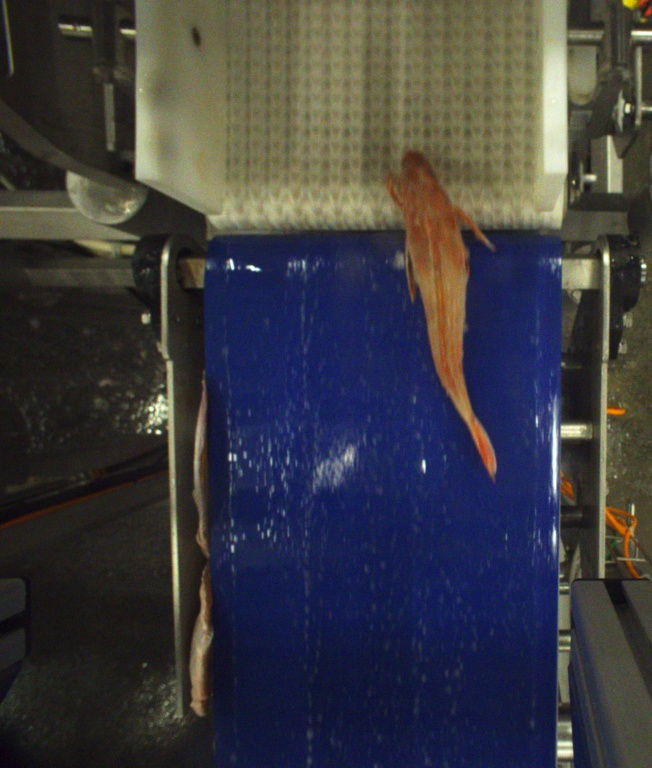GUU: (387, 149, 498, 485)
